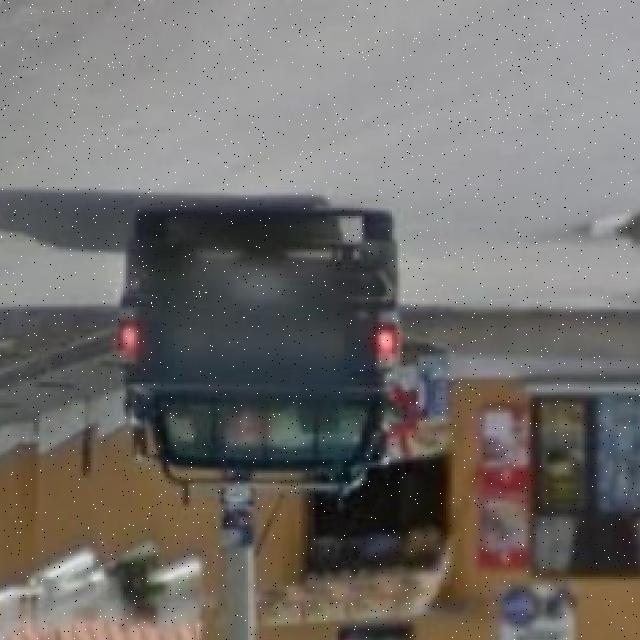car: (130, 228, 408, 481)
